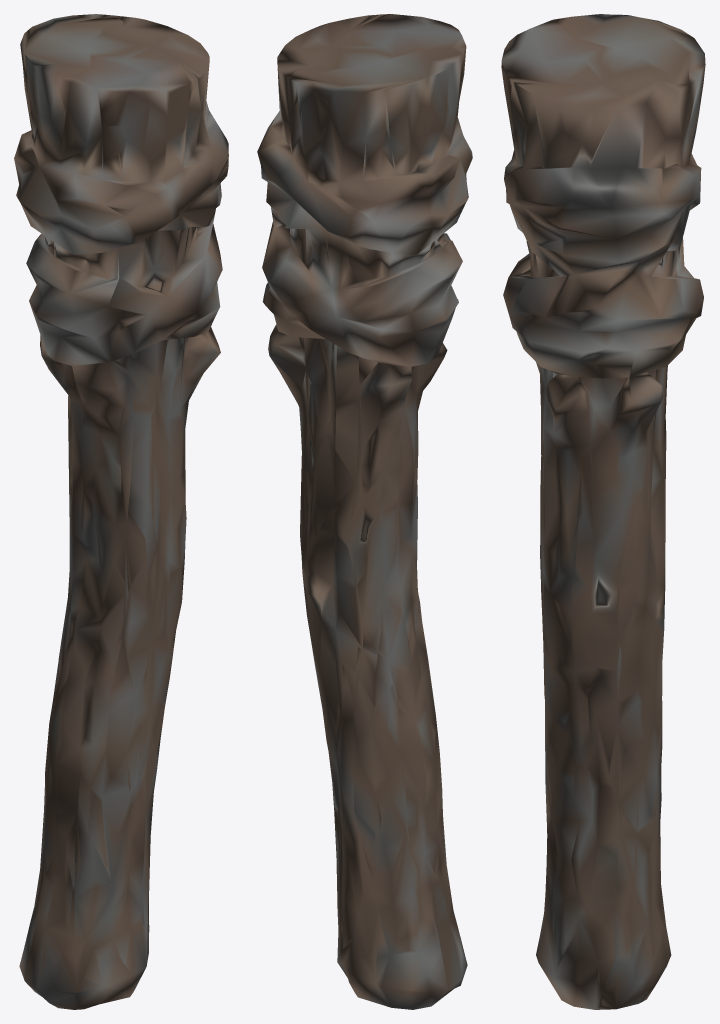
The model's file is antorcha.glb.
The picture shows the model from 3 angles, left to right: view 1: azimuth 30°, elevation 25°; view 2: azimuth 150°, elevation 25°; view 3: azimuth 270°, elevation 25°; orthographic projection.
Size of the model in its own units: 0.3962 by 1.9 by 0.3676.
